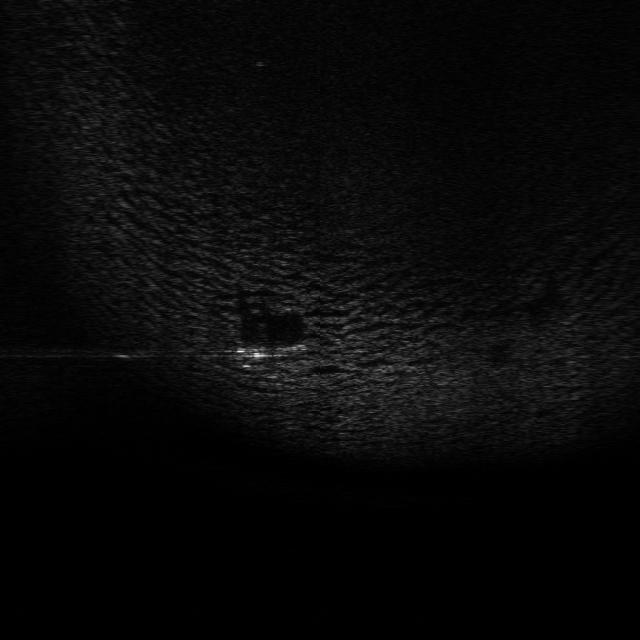plane: (234, 344, 312, 369)
